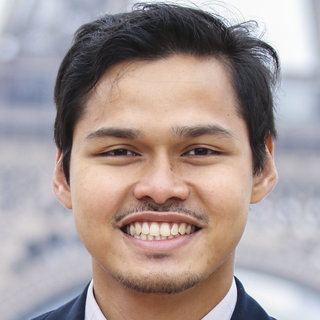eye: (91, 143, 146, 163), (179, 142, 228, 162)
